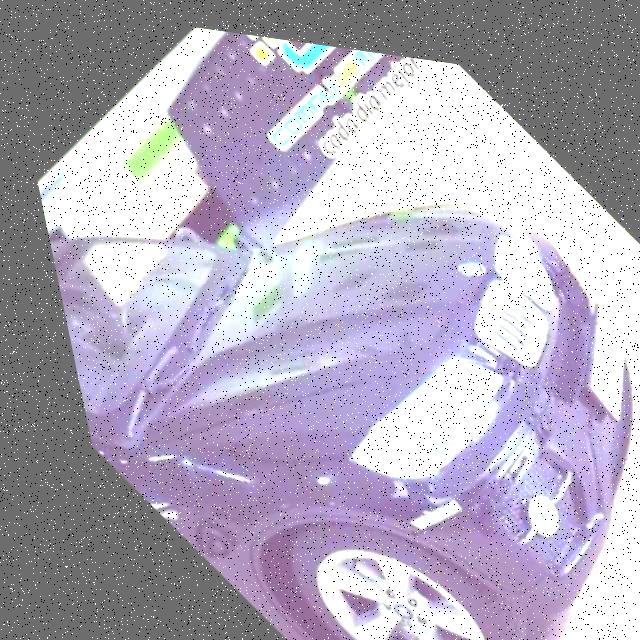license_plate: (523, 276, 640, 416)
